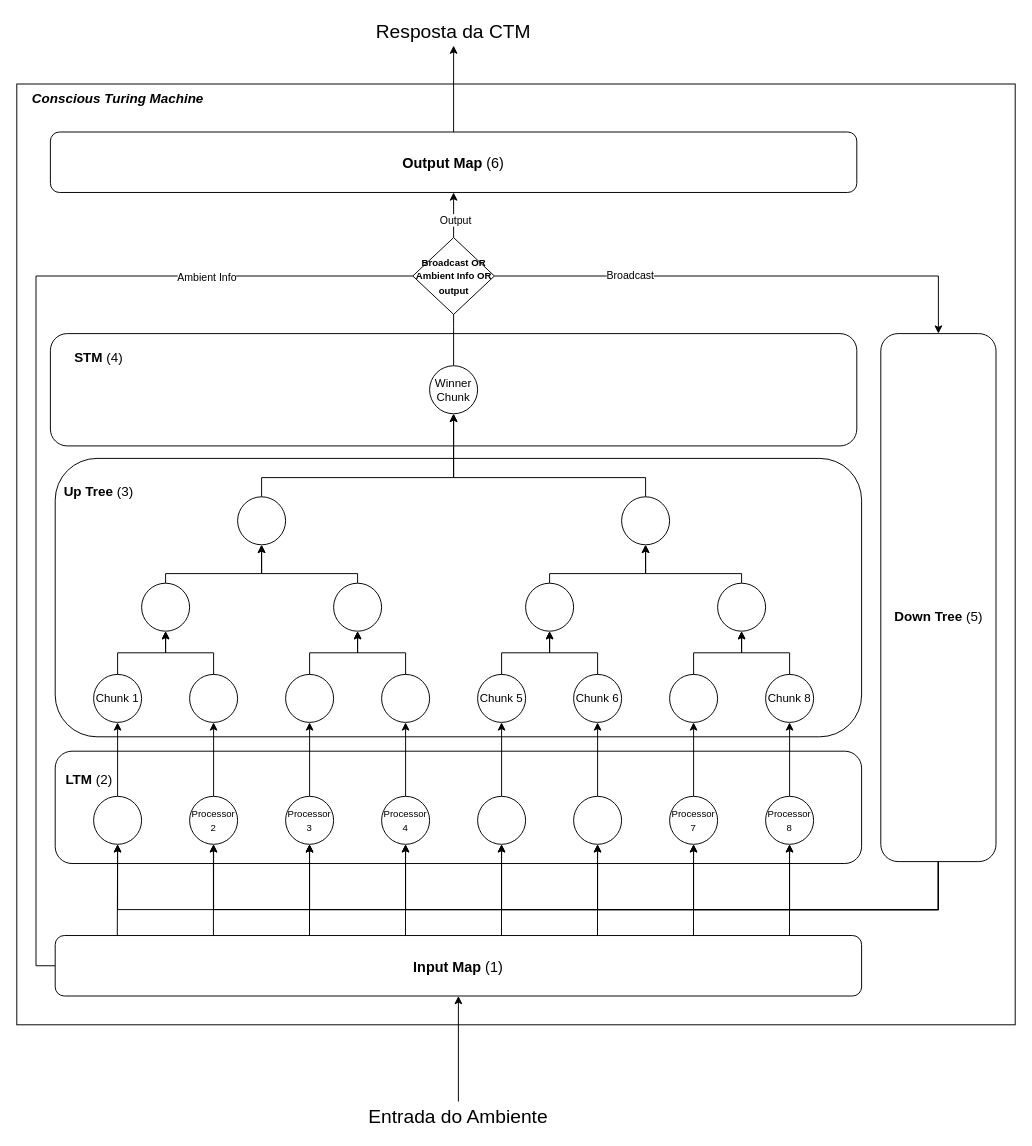
The diagram is 1032 pixels wide and 1146 high, and some of its shapes have lost their labels. Each missing label, with the centre of its shape:
Chunk 2: point (213, 697)
Chunk 3: point (309, 697)
Chunk 4: point (405, 697)
Chunk 7: point (693, 697)
Processor 1: point (117, 819)
Processor 5: point (501, 819)
Processor 6: point (597, 819)
